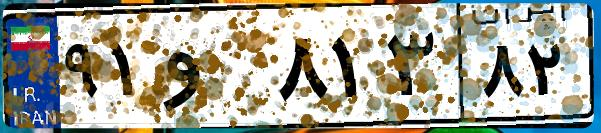1: (330, 28, 385, 110), (110, 28, 158, 98)
2: (525, 38, 570, 115)
3: (385, 28, 445, 110)
8: (270, 28, 330, 110), (475, 38, 525, 113)
9: (57, 26, 110, 100)
و: (158, 20, 270, 120)
